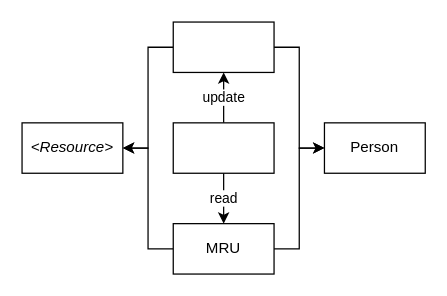
Some shapes in this 447 by 296 pixel diagram are drawn without their labels. Each missing label, with the centre of its shape:
"Access Counts" belongs at point 223,46.
"Chron Process" belongs at point 223,147.
